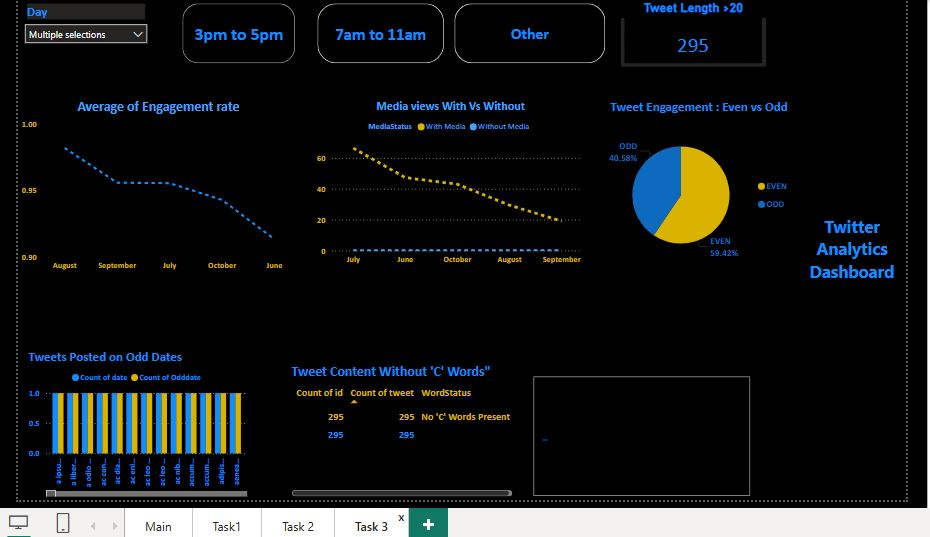

What the dashboard file says about the page in this screenshot:
{"tool":"powerbi","page":{"name":"Task 3","canvas":[1280,720],"ordinal":3},"visuals":[{"type":"lineChart","title":"Average of Engagement rate ","fields":{"Category":["SocialMedia (1).MonthName"],"Y":["Avg(SocialMedia (1).engagement rate)"]},"box":[0,141.1,404.6,256.3],"z":0},{"type":"lineChart","title":"Media views With  Vs Without","fields":{"Category":["SocialMedia (1).MonthName"],"Y":["Avg(SocialMedia (1).media engagements)"],"Series":["SocialMedia (1).MediaStatus"]},"box":[424.8,141.1,396,247.7],"z":1000},{"type":"textbox","box":[1121.8,15.8,158.4,704.2],"z":2000},{"type":"cardVisual","title":"Tweet Length >20","fields":{"Data":["CountNonNull(SocialMedia (1).Tweet Length-2)"]},"box":[868.3,0,208.8,96.5],"z":3000},{"type":"slicer","fields":{"Values":["SocialMedia (1).DayOfWeek"]},"box":[0,0,195.8,96.5],"z":4000},{"type":"pieChart","title":" Tweet Engagement : Even vs Odd ","fields":{"Category":["SocialMedia (1).Is_Even_Engagement"],"Y":["Max(SocialMedia (1).engagements)"]},"box":[839.5,141.1,282.2,256.3],"z":5000},{"type":"advancedSlicerVisual","fields":{"Values":["SocialMedia (1).TimeAllowed_2"]},"box":[231.8,0,172.8,96.5],"z":6000},{"type":"clusteredColumnChart","title":"Tweets Posted on Odd Dates","fields":{"Category":["SocialMedia (1).tweet"],"Y":["Count(SocialMedia (1).date)","Count(SocialMedia (1).Odddate)"]},"box":[10.1,501.1,325.4,218.9],"z":7000},{"type":"tableEx","title":"Tweet Content Without  ''C'' Words\"","fields":{"Values":["CountNonNull(SocialMedia (1).id)","SocialMedia (1).tweet","SocialMedia (1).WordStatus"]},"box":[388.8,522.7,328.3,197.3],"z":8000},{"type":"advancedSlicerVisual","fields":{"Values":["SocialMedia (1).Time_Allowed_1"]},"box":[426.2,0,193,96.5],"z":9000},{"type":"cardVisual","fields":{"Data":["SocialMedia (1).ChartMessage"]},"box":[737.3,537.1,322.6,182.9],"z":10000},{"type":"advancedSlicerVisual","fields":{"Values":["SocialMedia (1).Time_Allow3"]},"box":[623.5,0,227.5,96.5],"z":11000}]}

Visuals, with their boxes on the page's 1280x720 design canvas (x1, y1, x2, y2). These are canvas units, not pixel positions in the 930x537 screenshot, which may show the page scaled, cropped or inside an application window:
"Average of Engagement rate " lineChart: [x1=0, y1=141, x2=405, y2=397]
"Media views With  Vs Without" lineChart: [x1=425, y1=141, x2=821, y2=389]
textbox: [x1=1122, y1=16, x2=1280, y2=720]
"Tweet Length >20" cardVisual: [x1=868, y1=0, x2=1077, y2=96]
slicer - SocialMedia (1).DayOfWeek: [x1=0, y1=0, x2=196, y2=96]
" Tweet Engagement : Even vs Odd " pieChart: [x1=840, y1=141, x2=1122, y2=397]
advancedSlicerVisual - SocialMedia (1).TimeAllowed_2: [x1=232, y1=0, x2=405, y2=96]
"Tweets Posted on Odd Dates" clusteredColumnChart: [x1=10, y1=501, x2=336, y2=720]
"Tweet Content Without  ''C'' Words"" tableEx: [x1=389, y1=523, x2=717, y2=720]
advancedSlicerVisual - SocialMedia (1).Time_Allowed_1: [x1=426, y1=0, x2=619, y2=96]
cardVisual - SocialMedia (1).ChartMessage: [x1=737, y1=537, x2=1060, y2=720]
advancedSlicerVisual - SocialMedia (1).Time_Allow3: [x1=624, y1=0, x2=851, y2=96]
